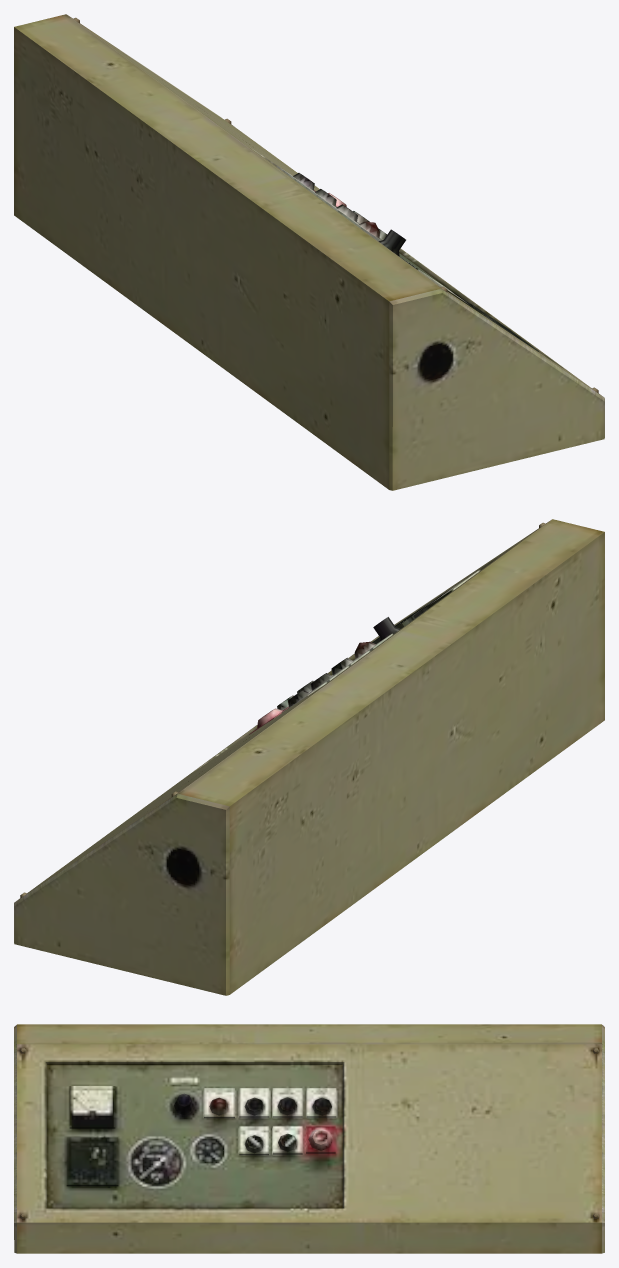
File: desk_console2.glb
3 renders of one model, top to bottom at view 1: azimuth 30°, elevation 25°; view 2: azimuth 150°, elevation 25°; view 3: azimuth 270°, elevation 25°, orthographic. The views are drawn at different scales.
Visible parts, largest first — view 1: 1_desk_console2, 0_desk_console1; view 2: 1_desk_console2, 0_desk_console1; view 3: 0_desk_console1, 1_desk_console2.
Part boxes in pixels (x1,y1,x2,y2): 1_desk_console2: (14,14,604,490); 0_desk_console1: (69,16,601,395); 1_desk_console2: (14,519,604,995); 0_desk_console1: (17,520,550,900); 0_desk_console1: (17,1044,601,1222); 1_desk_console2: (14,1024,604,1253).
Size of the model in its own units: 0.4087 by 0.3411 by 1.24.
Materials: 2 (2 with a texture image).
